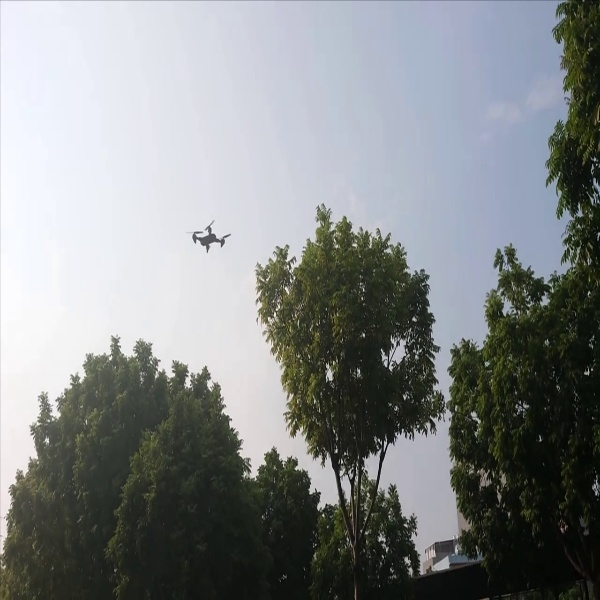drone: (184, 214, 244, 257)
